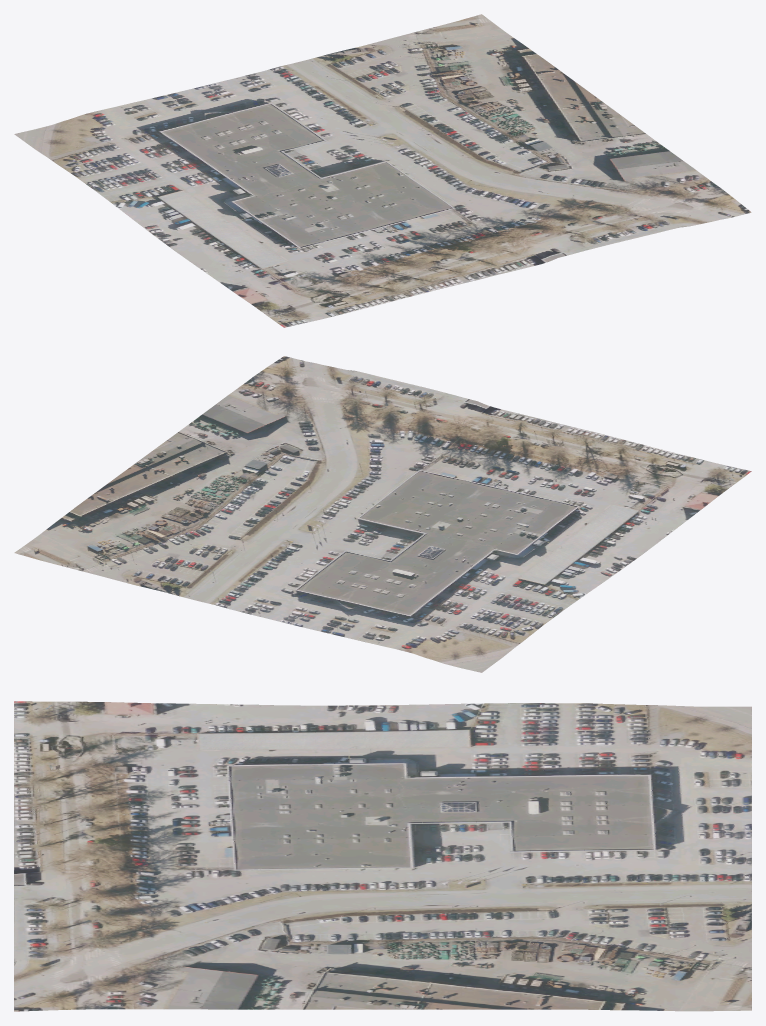
File: CM_Terrain_24487387_6819384.fbx
The picture shows the model from 3 angles, top to bottom: view 1: azimuth 30°, elevation 25°; view 2: azimuth 150°, elevation 25°; view 3: azimuth 270°, elevation 25°; orthographic projection. The views are drawn at different scales.
Visible parts, largest first — view 1: CM_Terrain_24487387_6819384_LOD0; view 2: CM_Terrain_24487387_6819384_LOD0; view 3: CM_Terrain_24487387_6819384_LOD0.
Part boxes in pixels (bbox=[...]): CM_Terrain_24487387_6819384_LOD0: bbox=[14, 14, 751, 327]; CM_Terrain_24487387_6819384_LOD0: bbox=[14, 356, 751, 672]; CM_Terrain_24487387_6819384_LOD0: bbox=[14, 701, 751, 1011].
Size of what is drawn, in the model's own units: 205 by 3.41 by 205.
